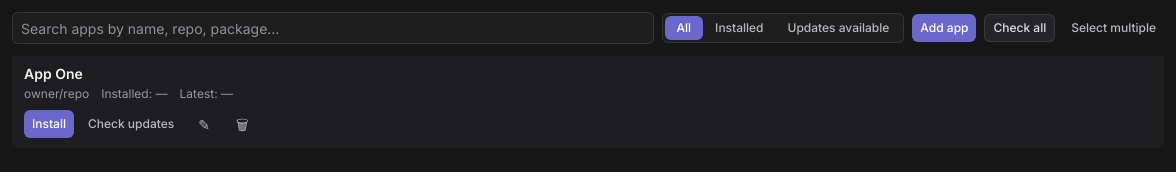
per-item actions › disables the action buttons while a request is in flight
Click the button named "Install App One" at (49, 124), box [24,110,74,138]
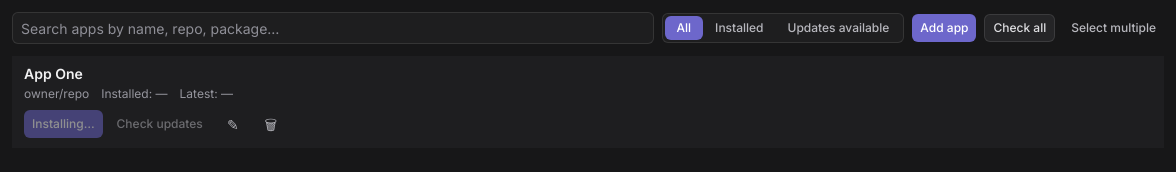
expect the button named "Install App One" is disabled: met, box [24,110,103,138]
